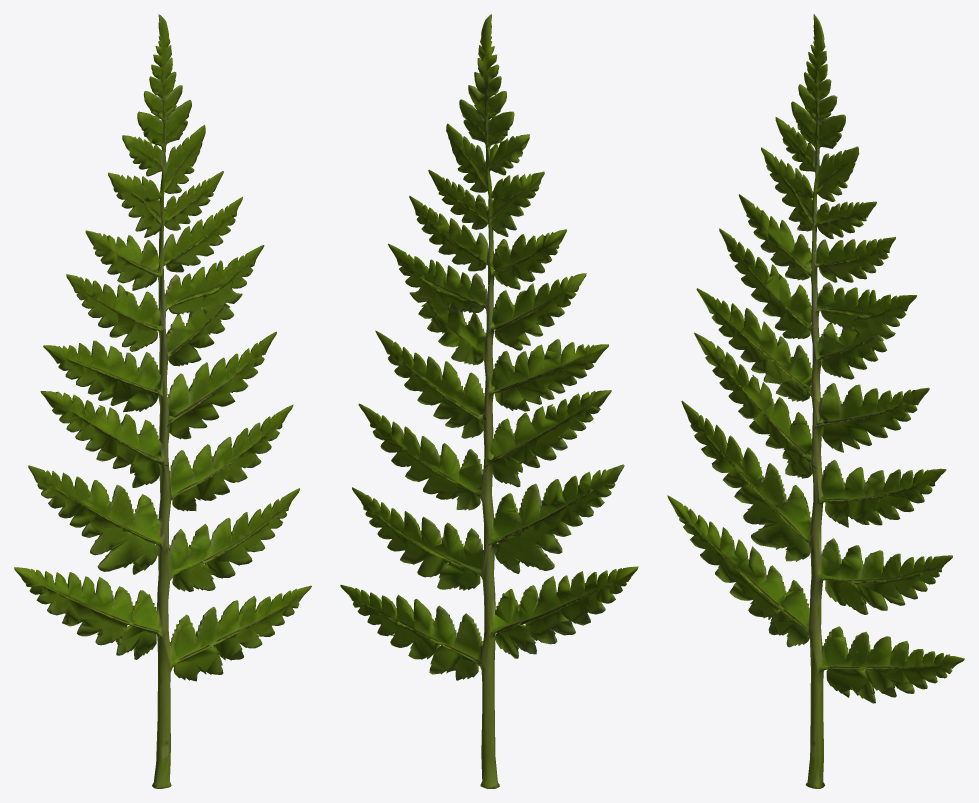
Rendered from fl-green-fern.glb.
The picture shows the model from 3 angles, left to right: view 1: azimuth 30°, elevation 25°; view 2: azimuth 150°, elevation 25°; view 3: azimuth 330°, elevation 25°; orthographic projection.
Visible parts, largest first — view 1: node_0; view 2: node_0; view 3: node_0.
Boxes of the visible parts, box(x1,y1,x2,y2) form: node_0: box(14, 14, 311, 788); node_0: box(340, 14, 638, 788); node_0: box(667, 14, 964, 788).
Bounding box in the file's own units: 0.4824 × 1.2 × 0.0245.
1 material, 1 textured.
